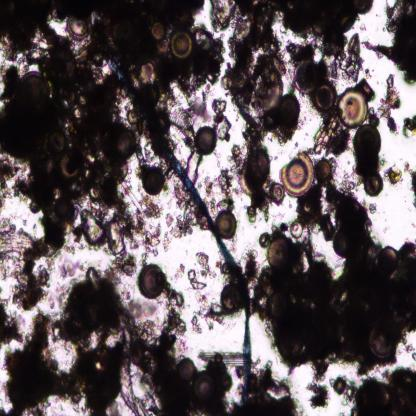Background material: (0, 0, 157, 252), (253, 168, 416, 378), (223, 0, 299, 160), (54, 265, 134, 416), (125, 310, 229, 416), (282, 0, 378, 86), (158, 0, 227, 111), (0, 312, 64, 416), (0, 218, 70, 308), (362, 0, 416, 89), (76, 183, 137, 260), (338, 364, 416, 416), (227, 148, 278, 224), (116, 349, 158, 416), (127, 188, 165, 260), (154, 191, 202, 247), (256, 364, 300, 416), (201, 166, 242, 217), (312, 111, 350, 162), (380, 75, 406, 135), (188, 294, 226, 334), (0, 291, 26, 348), (210, 93, 233, 146), (210, 0, 240, 38), (0, 164, 20, 216), (108, 251, 136, 287), (56, 251, 88, 282), (185, 91, 212, 124), (304, 379, 332, 410), (354, 155, 384, 182), (161, 278, 183, 313), (42, 285, 69, 312), (222, 346, 244, 379), (184, 148, 203, 182), (244, 247, 262, 282), (193, 250, 218, 275), (404, 162, 416, 207), (360, 73, 376, 103), (188, 269, 209, 291), (385, 161, 402, 188), (400, 112, 416, 138), (226, 400, 244, 416), (369, 106, 379, 129), (214, 148, 222, 170), (174, 262, 184, 277), (229, 239, 238, 254), (405, 343, 415, 353), (370, 202, 376, 214), (411, 352, 416, 362), (294, 140, 299, 148)
Cotton: (105, 40, 253, 416)
Diatom: (278, 153, 314, 194), (336, 89, 371, 129), (16, 70, 52, 108), (351, 124, 383, 160), (266, 235, 296, 272), (139, 263, 168, 301), (166, 108, 195, 145), (374, 242, 402, 280), (370, 324, 401, 358), (292, 57, 320, 93), (66, 10, 94, 44), (113, 124, 137, 162), (311, 79, 337, 114), (344, 33, 362, 81), (382, 0, 409, 32), (131, 57, 158, 87), (194, 370, 217, 404), (248, 147, 271, 181), (214, 209, 239, 240), (193, 123, 216, 155), (52, 192, 74, 225), (170, 31, 194, 61), (280, 93, 302, 125), (106, 156, 131, 184), (141, 165, 165, 194), (220, 283, 243, 313), (334, 226, 354, 256), (176, 356, 196, 385), (58, 152, 80, 178), (48, 127, 68, 155), (362, 174, 384, 198), (268, 181, 287, 205), (216, 370, 235, 392), (315, 157, 332, 181), (156, 38, 170, 59), (333, 376, 348, 394), (150, 22, 165, 40), (290, 221, 304, 238), (259, 230, 270, 248), (127, 108, 139, 123), (71, 104, 83, 119), (250, 374, 260, 390), (221, 76, 232, 90), (89, 186, 100, 200), (214, 352, 222, 364)
